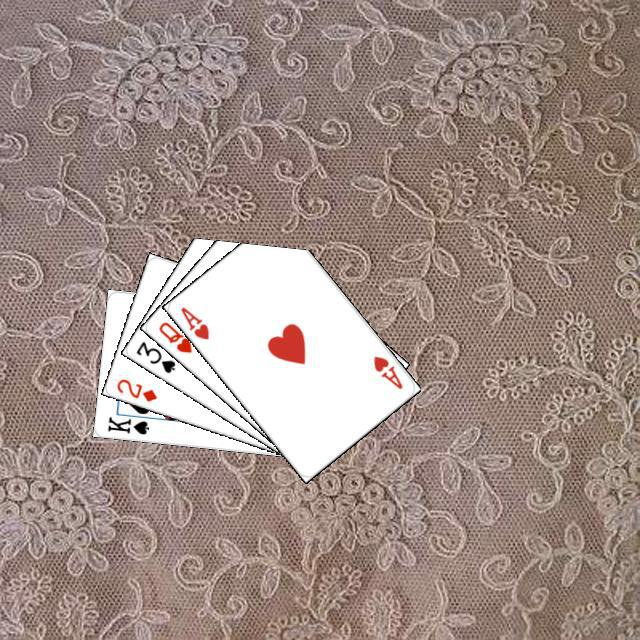2d: (112, 374, 159, 404)
3s: (131, 336, 177, 375)
Ah: (368, 351, 404, 391), (175, 302, 211, 341)
Ks: (102, 412, 151, 436)
Qh: (154, 317, 194, 355)
